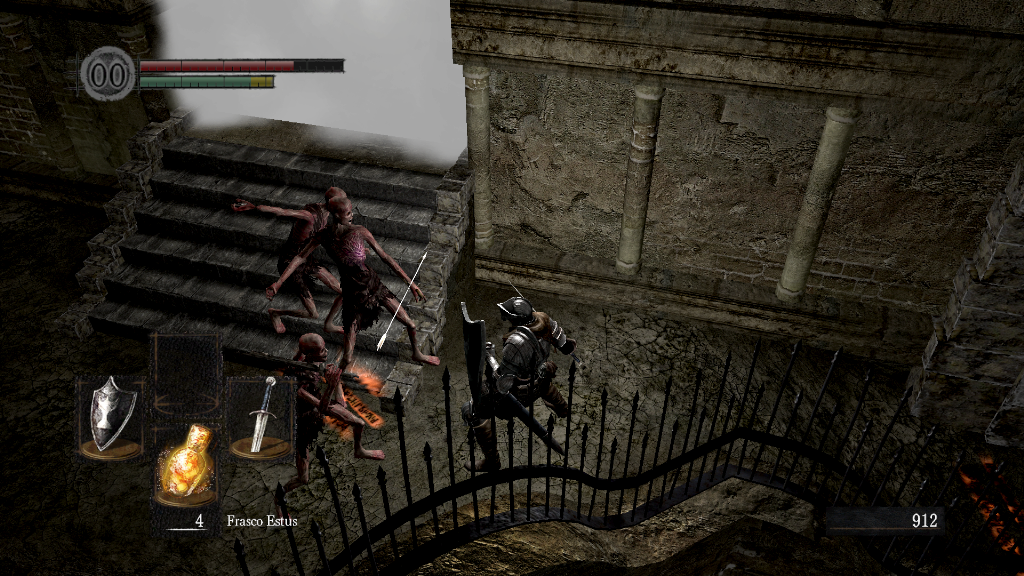health: (138, 58, 343, 71)
hollow: (264, 197, 443, 388), (267, 335, 389, 511), (235, 196, 349, 341)
humanity: (80, 45, 136, 102)
player: (459, 266, 589, 471)
souls: (825, 506, 945, 536)
stamina: (138, 74, 274, 88)
